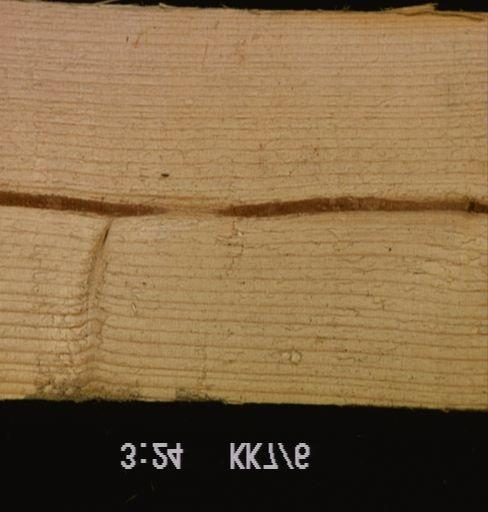wave: (369, 2, 487, 26)
